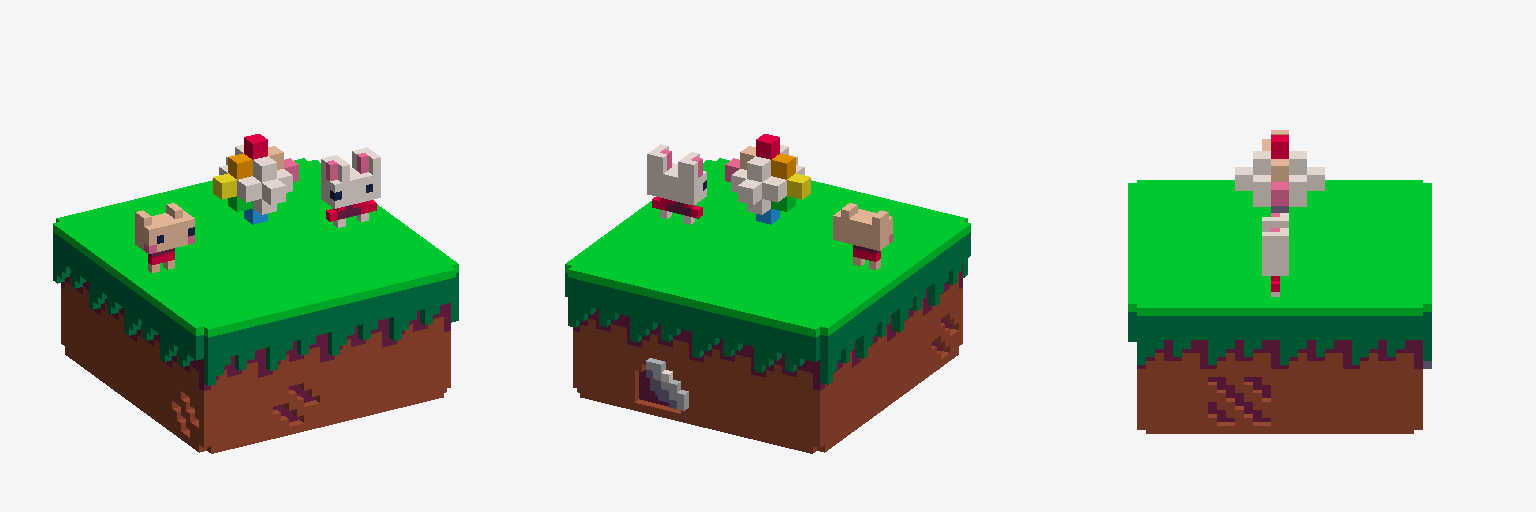
The picture shows the model from 3 angles: view 1: azimuth 30°, elevation 25°; view 2: azimuth 150°, elevation 25°; view 3: azimuth 270°, elevation 25°; orthographic projection.
Parts seen in each view (by area): view 1: COMMON; view 2: COMMON; view 3: COMMON.
Part boxes in pixels (bbox=[...]): COMMON: bbox=[53, 134, 458, 453]; COMMON: bbox=[565, 134, 970, 453]; COMMON: bbox=[1128, 130, 1431, 433].
Bounding box in the file's own units: 13.6 × 11.6 × 13.6.
1 materials, 1 textured.